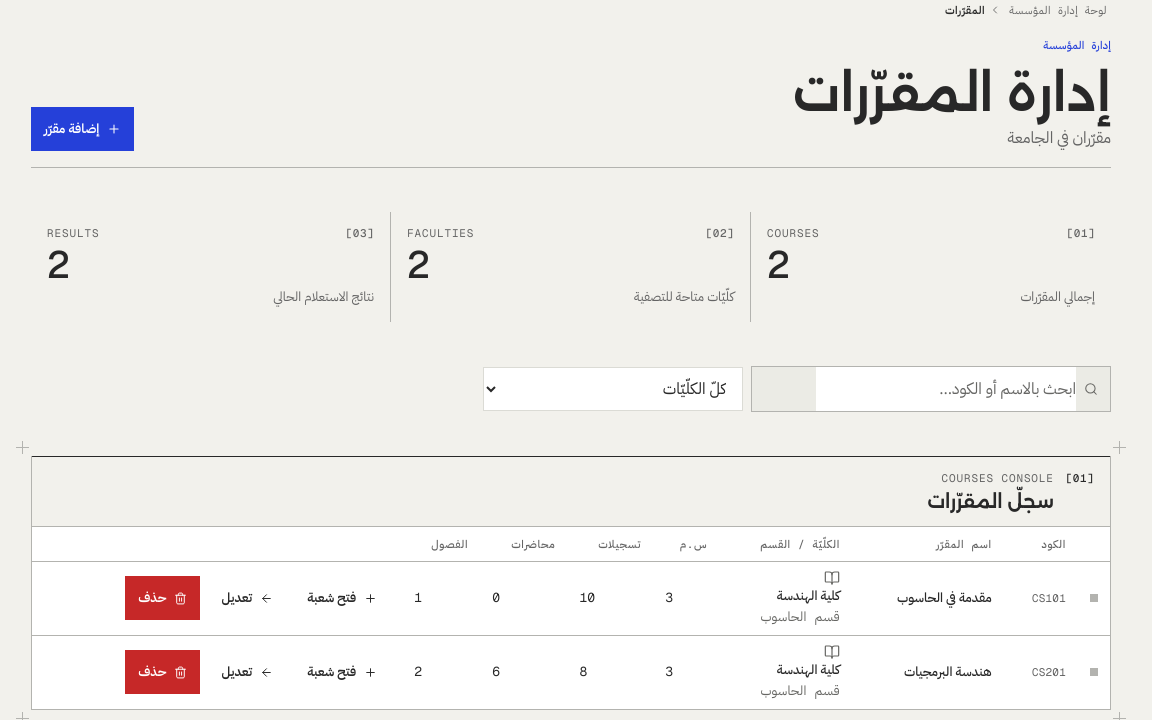
R305-A8 — the courses delete action rides the reference danger class › the row delete button carries .r305ao-btn-danger and the ConfirmDialog flow behind it is intact
This screenshot has width=1152, height=720.
Check: the text "CS101" is shown, box left=1032, top=591, right=1066, bottom=605
Click the button "حذف" in the row of "CS101" at [163, 598], box left=125, top=576, right=200, bottom=620
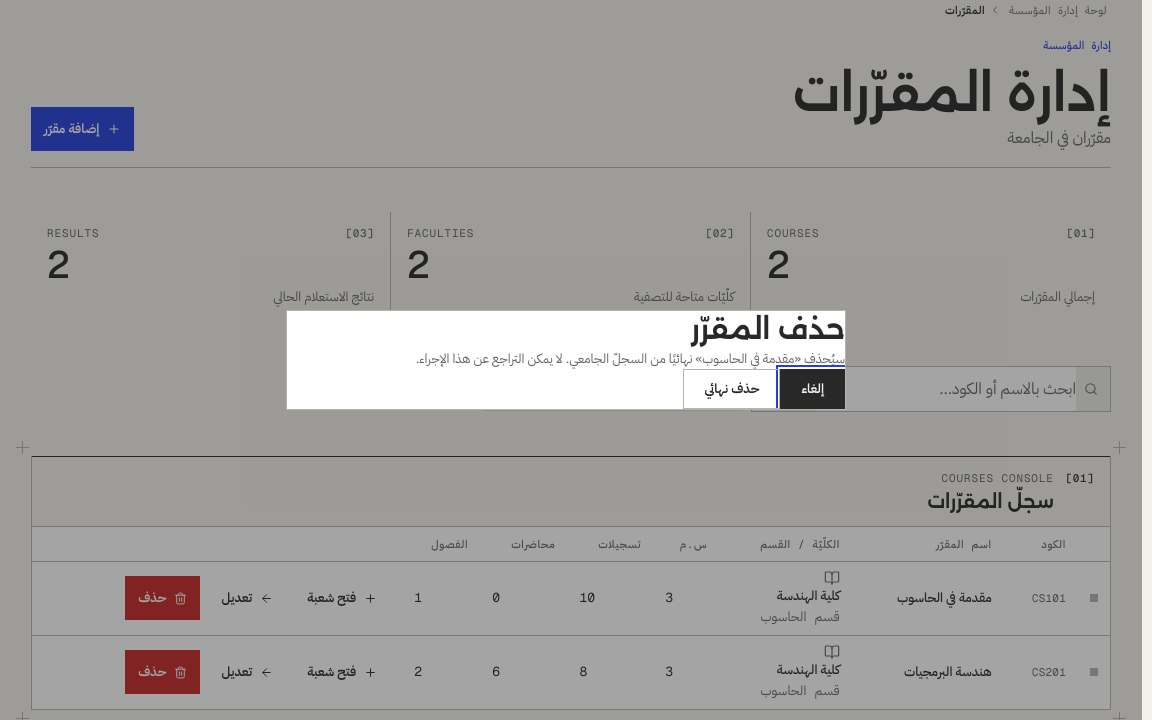
Check: the heading "حذف المقرّر" is shown, box left=690, top=311, right=845, bottom=346
Check: the button "حذف نهائي" is shown, box left=683, top=369, right=780, bottom=409
